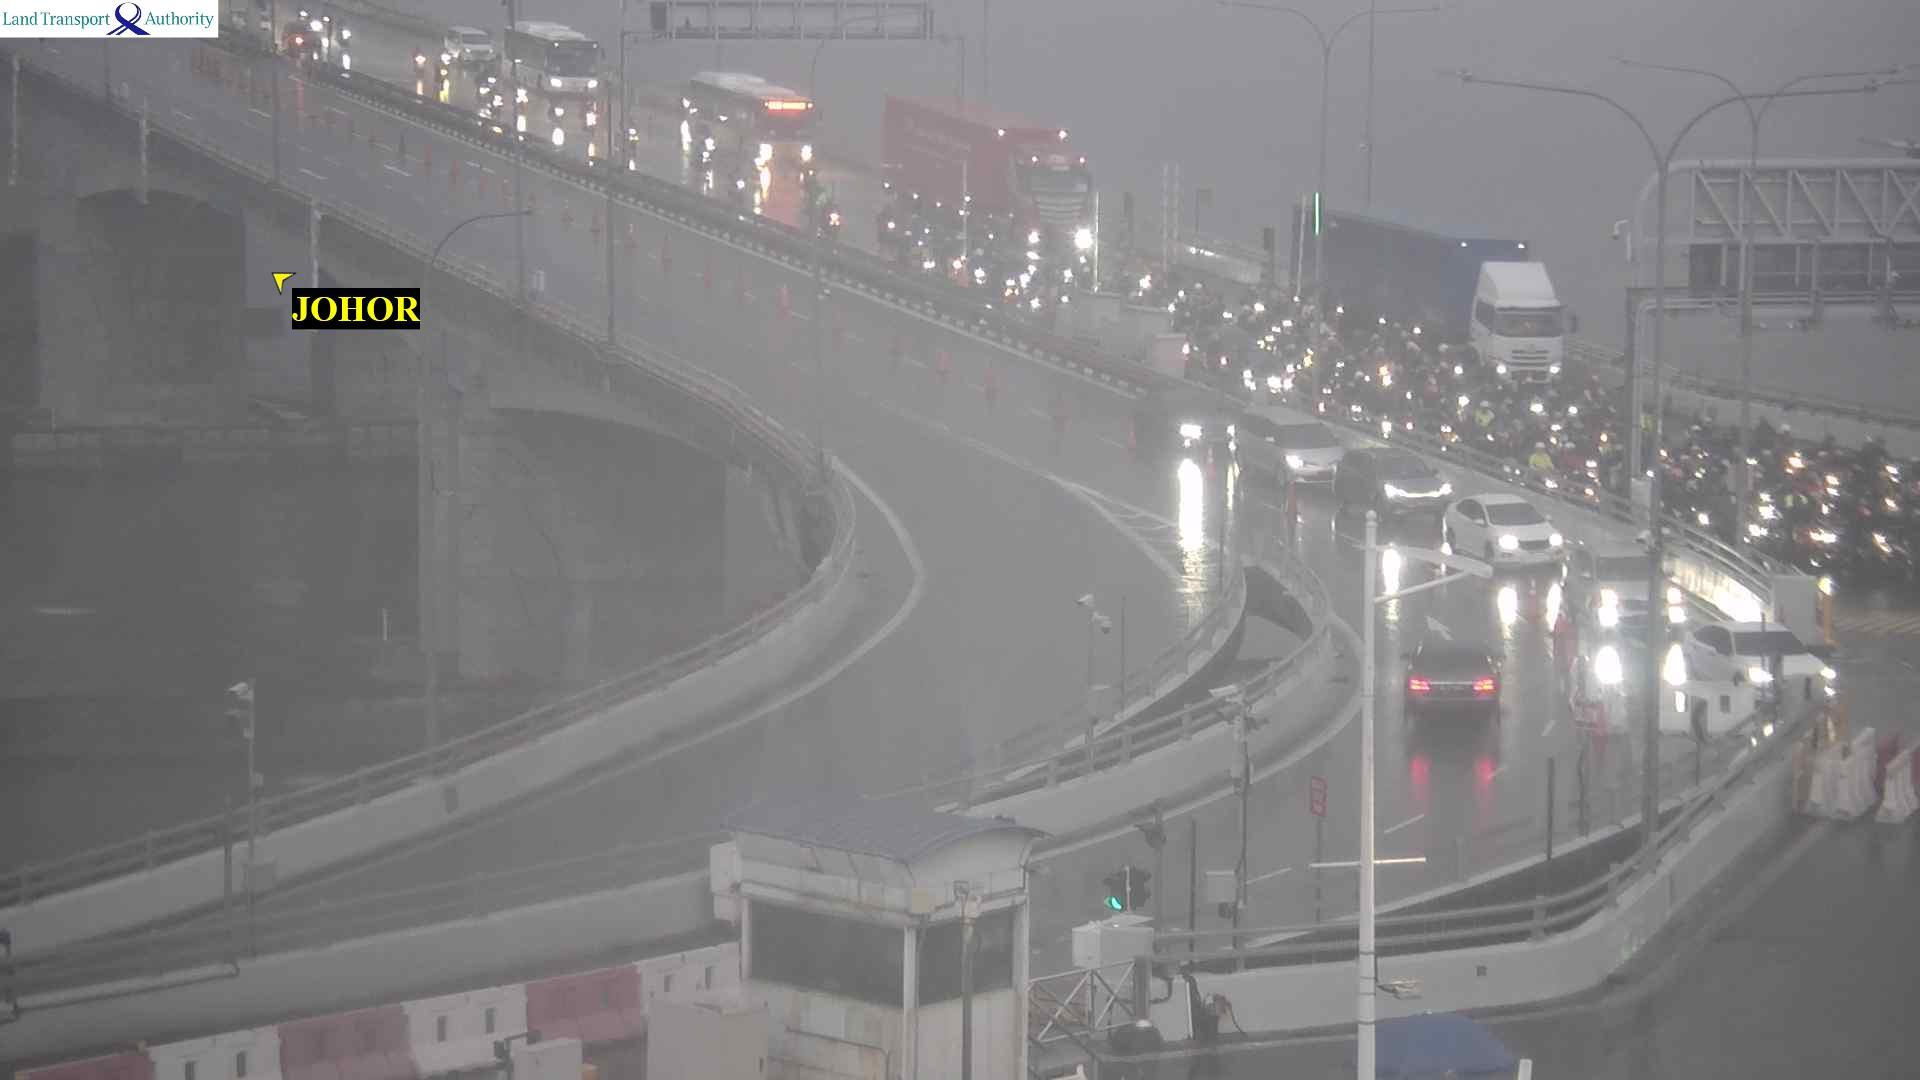vehicle-secondlink-johor: (1407, 644, 1501, 716)
vehicle-secondlink-singapore: (1341, 224, 1581, 353), (886, 96, 1088, 228), (1685, 621, 1836, 704), (1217, 414, 1354, 493), (687, 71, 812, 157), (1335, 443, 1462, 520), (1571, 541, 1673, 636), (1448, 496, 1560, 562), (505, 22, 604, 88), (1812, 521, 1858, 571), (447, 26, 489, 66), (1753, 495, 1784, 543), (1782, 443, 1813, 487), (874, 208, 909, 247), (1528, 439, 1557, 484), (1875, 530, 1905, 567), (1817, 472, 1845, 512), (1527, 404, 1559, 438), (1873, 452, 1898, 493), (583, 96, 603, 133), (1476, 397, 1494, 435), (727, 170, 745, 198), (480, 74, 496, 103), (626, 116, 640, 149), (411, 45, 426, 74), (550, 96, 566, 120), (436, 61, 448, 84)
